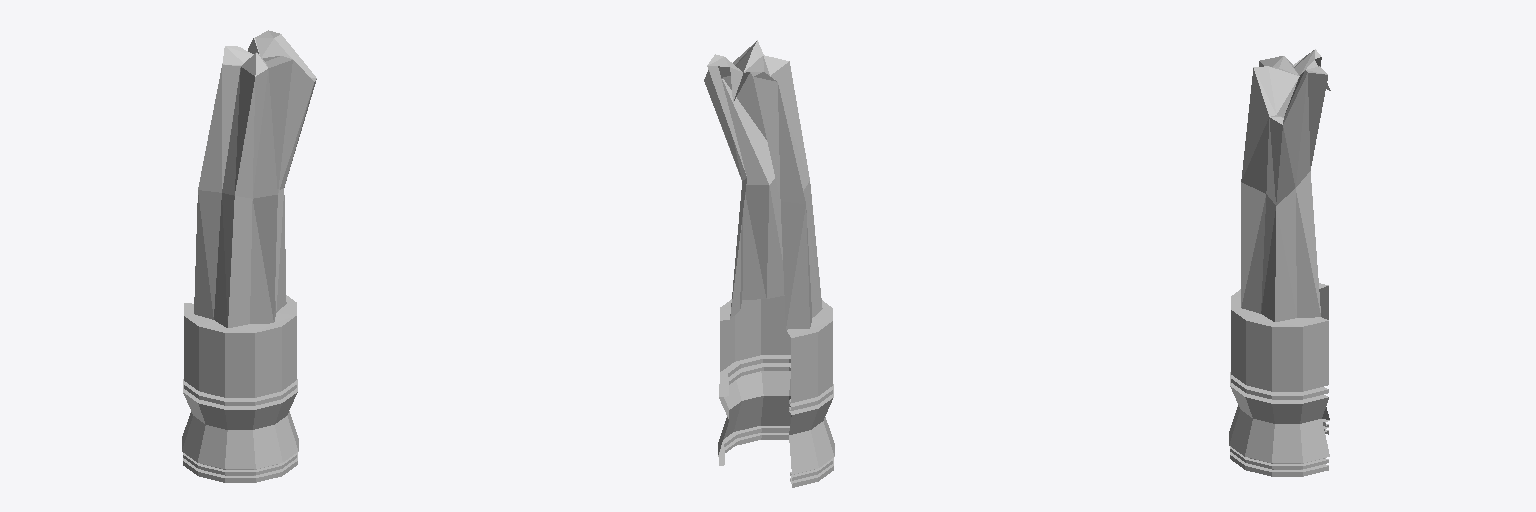
Rendered from pilierCasse7.obj.
3 renders of one model, left to right at view 1: azimuth 30°, elevation 25°; view 2: azimuth 150°, elevation 25°; view 3: azimuth 270°, elevation 25°, orthographic.
Bounding box in the file's own units: 0.3529 × 1.09 × 0.2487.